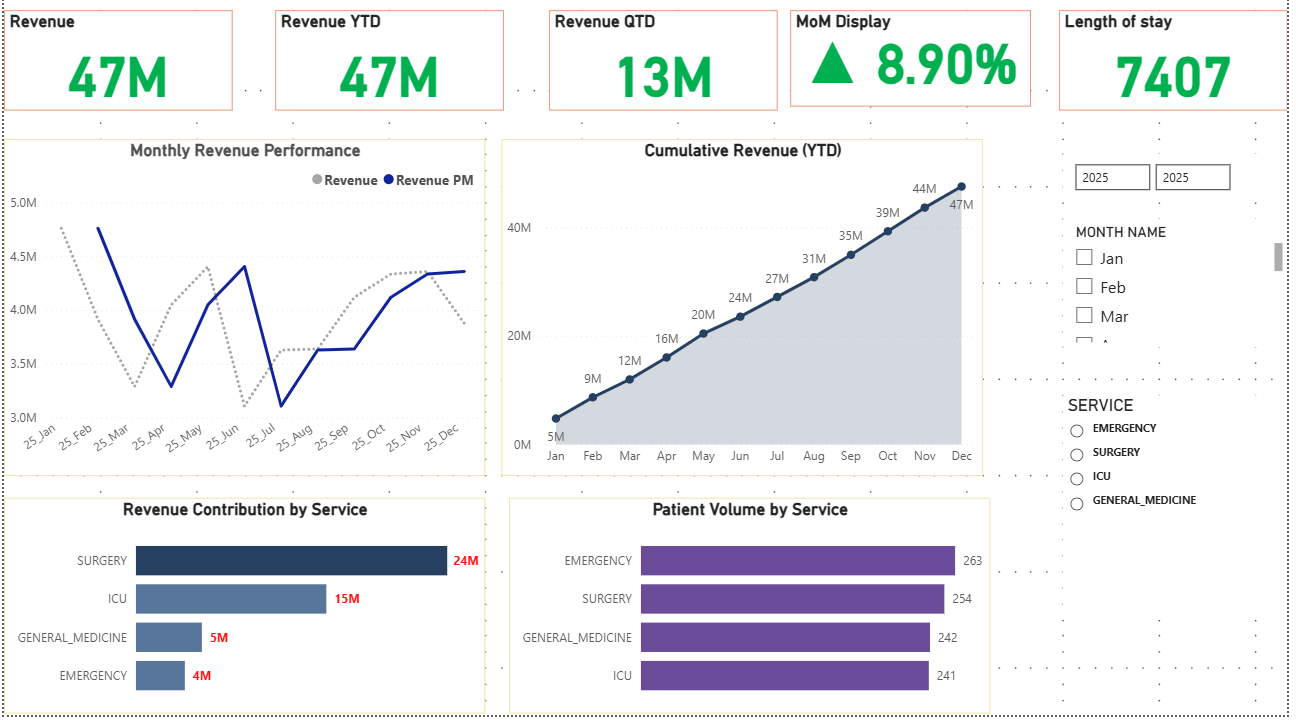

Layout of this report page (visuals, bound fields, positions):
{"tool":"powerbi","page":{"name":"Hospital Bed Management ","canvas":[1280,720],"ordinal":0},"visuals":[{"type":"card","title":"Monthly Growth (Mom)","fields":{"Values":["Date Table.Mom Display"]},"box":[752,16,240,96],"z":0,"group":"g1"},{"type":"lineChart","title":"Revenue vs Previous Month trend","fields":{"Category":["Date Table.Year-Month"],"Y":["Patients.Revenue","Date Table.Revenue PM"]},"box":[16,144,480,336],"z":0},{"type":"card","title":"Revenue YTD","fields":{"Values":["Date Table.Revenue YTD"]},"box":[256,16,224,96],"z":1000,"group":"g1"},{"type":"lineChart","title":"Cumulative Revenue (YTD)","fields":{"Y":["Date Table.Revenue YTD"],"Category":["Date Table.Year-Month"]},"box":[512,144,480,336],"z":1000},{"type":"card","title":"Revenue QTD","fields":{"Values":["Date Table.Revenue QTD"]},"box":[496,16,240,96],"z":2000,"group":"g1"},{"type":"clusteredBarChart","title":"Revenue Contribution by Service","fields":{"Category":["Patients.SERVICE"],"Y":["Patients.Revenue"]},"box":[16,512,480,208],"z":2000},{"type":"card","title":"Revenue","fields":{"Values":["Patients.Revenue"]},"box":[16,16,224,96],"z":3000,"group":"g1"},{"type":"clusteredBarChart","title":"Patient Volume by Service","fields":{"Category":["Patients.SERVICE"],"Y":["Date Table.Patients count"]},"box":[512,496,480,224],"z":3000},{"type":"slicer","fields":{"Values":["Date Table.YEAR"]},"box":[1056,160,224,48],"z":4000},{"type":"slicer","fields":{"Values":["Date Table.MONTH NAME"]},"box":[1056,224,224,128],"z":5000},{"type":"listSlicer","fields":{"Values":["Patients.SERVICE"]},"box":[1056,368,224,272],"z":6000},{"type":"card","title":"Avg Length of stay (Days)","fields":{"Values":["Avg(Patients.LENGTH OF STAY)"]},"box":[1008,16,240,96],"z":8000,"group":"g1"},{"type":"group","id":"g1","title":"Group 1","box":[16,16,1232,96],"z":8001},{"type":"slicer","fields":{"Values":["Date Table.QUARTER"]},"box":[1056,560,224,160],"z":8002}]}

Visuals, with their boxes in screenshot pixels (x1, y1, x2, y2), scaled from the page's 1280x720 canvas onto the 1296x720 screenshot:
"Monthly Growth (Mom)" card: box=[761, 16, 1004, 112]
"Revenue vs Previous Month trend" lineChart: box=[16, 144, 502, 480]
"Revenue YTD" card: box=[259, 16, 486, 112]
"Cumulative Revenue (YTD)" lineChart: box=[518, 144, 1004, 480]
"Revenue QTD" card: box=[502, 16, 745, 112]
"Revenue Contribution by Service" clusteredBarChart: box=[16, 512, 502, 719]
"Revenue" card: box=[16, 16, 243, 112]
"Patient Volume by Service" clusteredBarChart: box=[518, 496, 1004, 719]
slicer - Date Table.YEAR: box=[1069, 160, 1295, 208]
slicer - Date Table.MONTH NAME: box=[1069, 224, 1295, 352]
listSlicer - Patients.SERVICE: box=[1069, 368, 1295, 640]
"Avg Length of stay (Days)" card: box=[1021, 16, 1264, 112]
"Group 1" group: box=[16, 16, 1264, 112]
slicer - Date Table.QUARTER: box=[1069, 560, 1295, 719]
